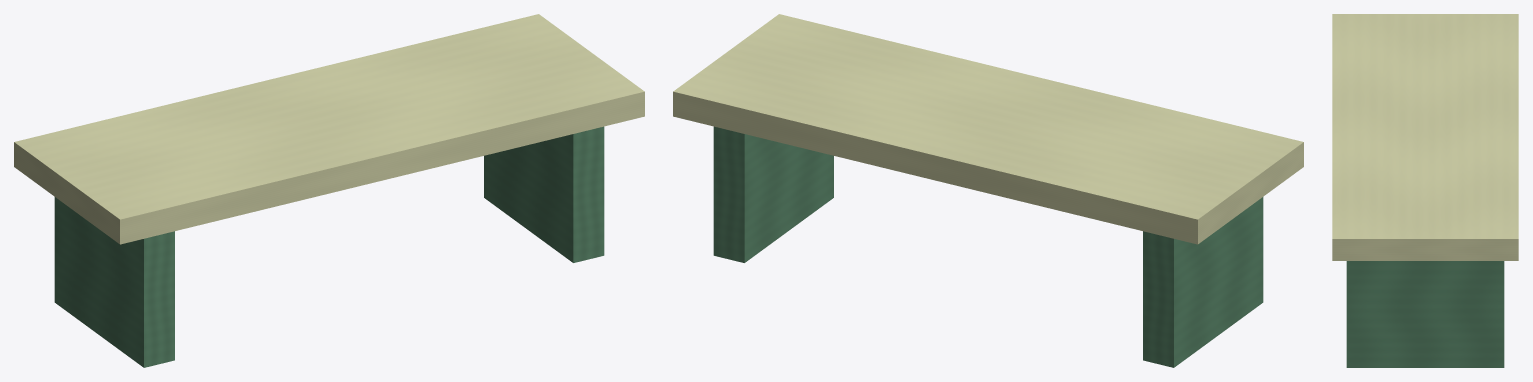
Rendered from atlas100-solarpunk-util03.lod2.glb.
3 views of the same model, side by side, from view 1: azimuth 30°, elevation 25°; view 2: azimuth 150°, elevation 25°; view 3: azimuth 270°, elevation 25° (orthographic). The views are drawn at different scales.
Visible parts, largest first — view 1: atlas100-solarpunk-util03:part-002, atlas100-solarpunk-util03:part-000, atlas100-solarpunk-util03:part-001; view 2: atlas100-solarpunk-util03:part-002, atlas100-solarpunk-util03:part-000, atlas100-solarpunk-util03:part-001; view 3: atlas100-solarpunk-util03:part-002, atlas100-solarpunk-util03:part-001.
Boxes of the visible parts, bbox=[...] form: atlas100-solarpunk-util03:part-002: bbox=[14, 14, 644, 244]; atlas100-solarpunk-util03:part-000: bbox=[54, 197, 174, 367]; atlas100-solarpunk-util03:part-001: bbox=[484, 126, 604, 262]; atlas100-solarpunk-util03:part-002: bbox=[673, 14, 1303, 244]; atlas100-solarpunk-util03:part-000: bbox=[1143, 197, 1263, 367]; atlas100-solarpunk-util03:part-001: bbox=[713, 126, 833, 262]; atlas100-solarpunk-util03:part-002: bbox=[1332, 14, 1518, 260]; atlas100-solarpunk-util03:part-001: bbox=[1346, 261, 1504, 367].
Bounding box in the file's own units: 2.3 × 0.6799 × 0.8054.
Materials: 2 (2 with a texture image).
